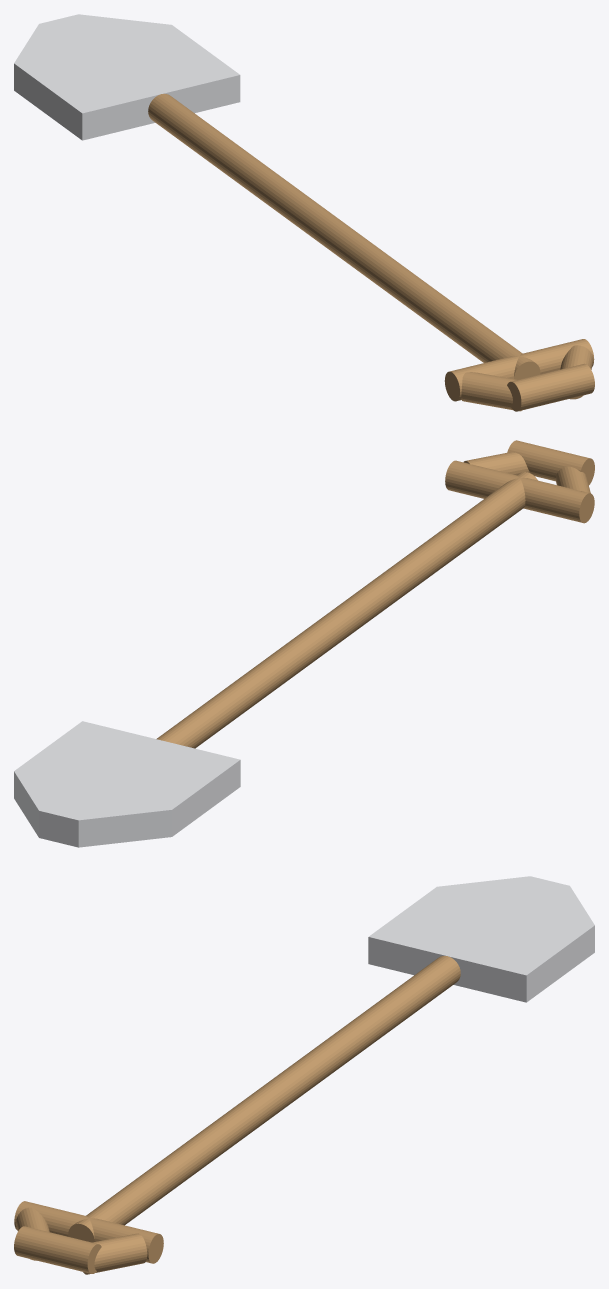
The model's file is shovel.fbx.
3 views of the same model, one above another, from view 1: azimuth 30°, elevation 25°; view 2: azimuth 150°, elevation 25°; view 3: azimuth 330°, elevation 25° (orthographic).
Visible parts, largest first — view 1: Cylinder; view 2: Cylinder; view 3: Cylinder.
Part boxes in pixels (box(x1,y1,x2,y2)): Cylinder: box(14, 14, 594, 411); Cylinder: box(14, 440, 594, 847); Cylinder: box(14, 876, 594, 1274).
Size of the model in its own units: 1188 by 241 by 6503.
